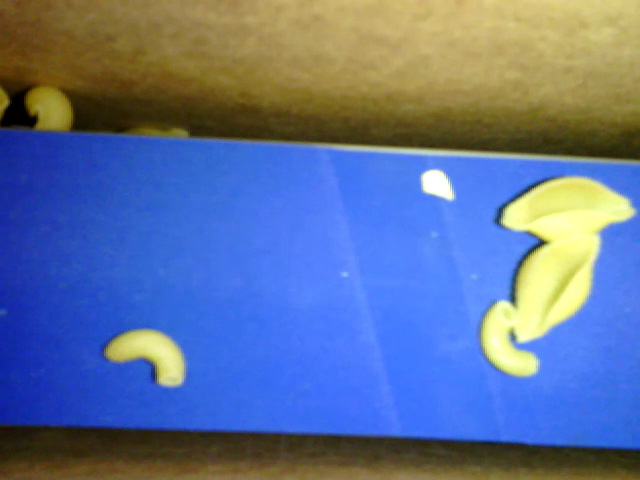elbow: (103, 326, 186, 388), (481, 300, 539, 379)
shell: (495, 172, 636, 245), (511, 232, 601, 346), (25, 88, 73, 133)
